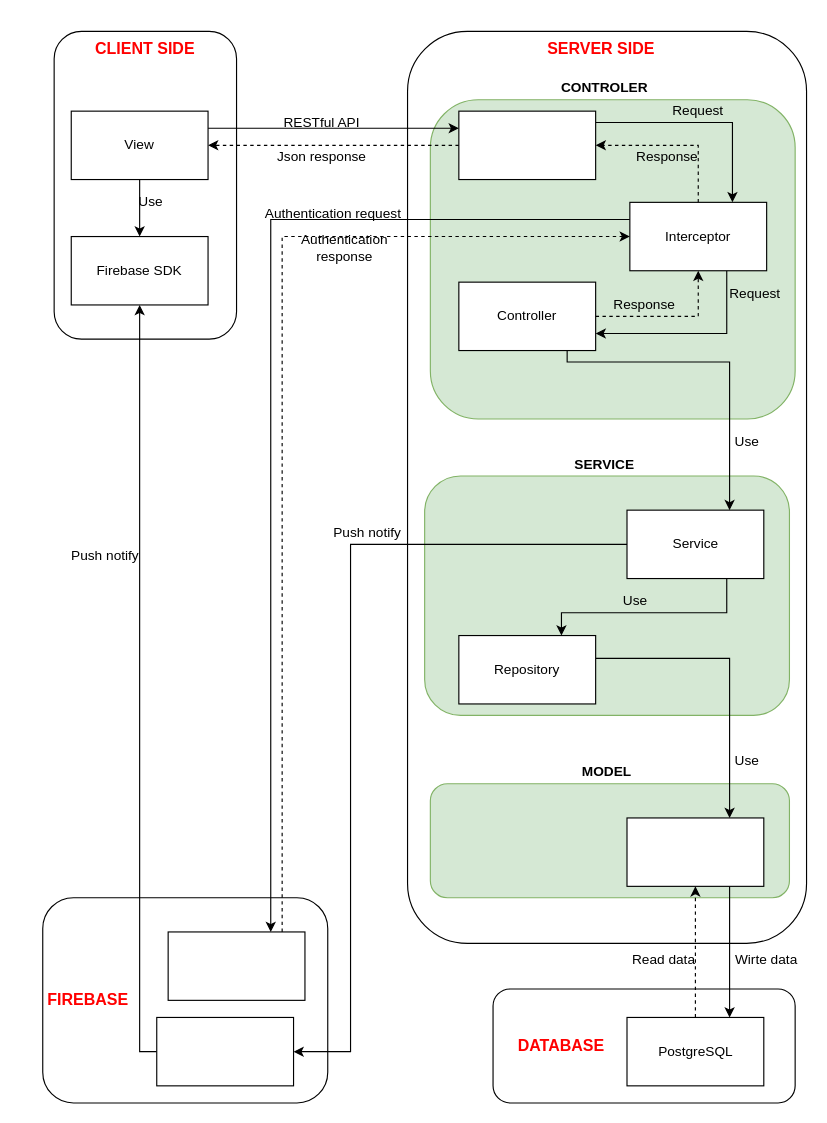
Image size: 827x1123. Some labels were removed from this diagram. Each missing label, with the centre of its shape:
"Entity model" goes at pixel 695 851.
"Filter" goes at pixel 527 145.
"Firebase authentication" goes at pixel 236 965.
"Firebase cloud message" goes at pixel 225 1051.
